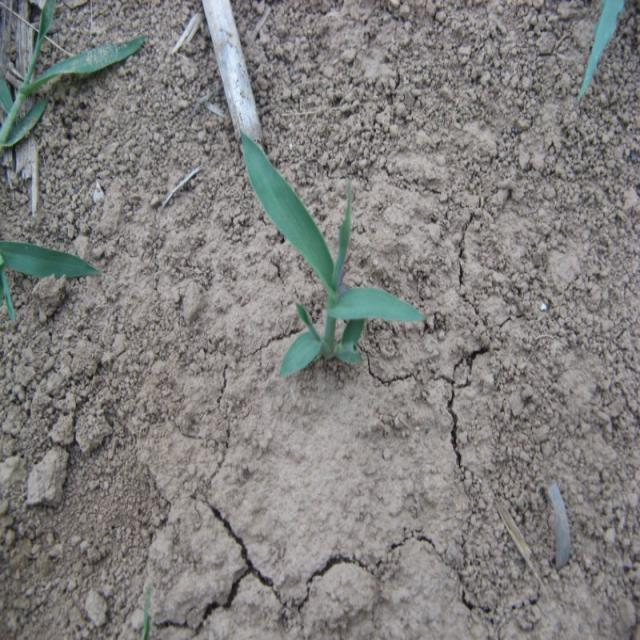bg: (239, 136, 435, 382)
